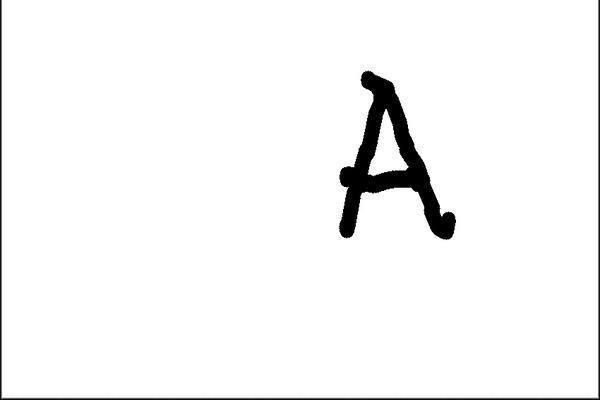A: (323, 65, 459, 248)
